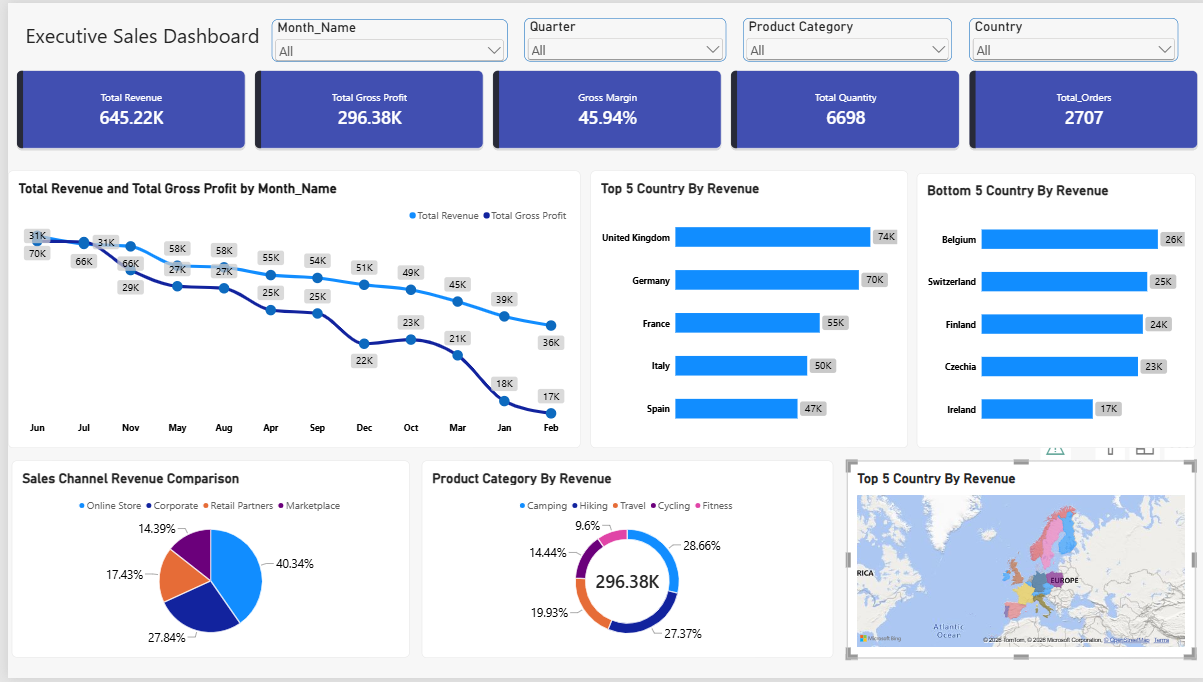

The dashboard page shown, as its layout file describes it:
{"tool":"powerbi","page":{"name":"Page 1","canvas":[1920,1080],"ordinal":0},"visuals":[{"type":"slicer","fields":{"Values":["Date_Table.Month_Name"]},"box":[421.7,26.1,377.3,67.9],"z":0,"group":"g1"},{"type":"cardVisual","fields":{"Data":["All_Measures.Total_Revenue","All_Measures.Total Gross Profit","All_Measures.Gross Margin","All_Measures.Total Quantity","All_Measures.Total_Orders"]},"box":[0,94,1920,152],"z":0},{"type":"lineChart","fields":{"Category":["Date_Table.Month_Name"],"Y":["All_Measures.Total_Revenue"],"Y2":["All_Measures.Total Gross Profit"]},"box":[0,268,916,444],"z":0,"group":"g3"},{"type":"slicer","fields":{"Values":["Date_Table.Quarter"]},"box":[825.8,23.5,323.2,69.7],"z":1000,"group":"g1"},{"type":"textbox","box":[27.1,30.8,499.5,77.8],"z":1000},{"type":"clusteredBarChart","title":"Top 5 Country By Revenue ","fields":{"Category":["Sales_Data.Country"],"Y":["All_Measures.Total Revenue"]},"box":[932,268,508,444],"z":1000,"group":"g3"},{"type":"group","id":"g1","title":"Group 2","box":[421.7,23.5,1449.5,70.6],"z":1007,"group":"g2"},{"type":"group","id":"g2","title":"Group 1","box":[421.7,23.5,1449.5,70.6],"z":2000},{"type":"slicer","fields":{"Values":["Sales_Data.Product Category"]},"box":[1175.7,23.5,334.4,69.7],"z":2000,"group":"g1"},{"type":"clusteredBarChart","title":"Bottom 5 Country By Revenue ","fields":{"Category":["Sales_Data.Country"],"Y":["All_Measures.Total Revenue"]},"box":[1454,272,446,440],"z":2000,"group":"g3"},{"type":"slicer","fields":{"Values":["Sales_Data.Country"]},"box":[1536.9,23.5,334.4,69.7],"z":3000,"group":"g1"},{"type":"pieChart","title":"Sales Channel Revenue Comparison","fields":{"Category":["Sales_Data.Sales Channel"],"Y":["All_Measures.Total Revenue"]},"box":[6.3,732.9,637,314.9],"z":3000},{"type":"donutChart","title":"Product Category By Revenue ","fields":{"Category":["Sales_Data.Product Category"],"Y":["All_Measures.Total Gross Profit"]},"box":[662,732,658,316],"z":4000},{"type":"filledMap","title":"Top 5 Country By Revenue ","fields":{"Category":["Sales_Data.Country"]},"box":[1342,732,558,316],"z":5000},{"type":"group","id":"g3","title":"Group 3","box":[0,268,1900,444],"z":6000}]}

Visuals, with their boxes in screenshot pixels (x1, y1, x2, y2), scaled from the page's 1920x1080 canvas onto the 1203x682 screenshot:
slicer - Date_Table.Month_Name: {"left": 264, "top": 16, "right": 501, "bottom": 59}
cardVisual - All_Measures.Total_Revenue x All_Measures.Total Gross Profit: {"left": 0, "top": 59, "right": 1202, "bottom": 155}
lineChart - Date_Table.Month_Name x All_Measures.Total_Revenue: {"left": 0, "top": 169, "right": 574, "bottom": 450}
slicer - Date_Table.Quarter: {"left": 517, "top": 15, "right": 720, "bottom": 59}
textbox: {"left": 17, "top": 19, "right": 330, "bottom": 69}
"Top 5 Country By Revenue " clusteredBarChart: {"left": 584, "top": 169, "right": 902, "bottom": 450}
"Group 2" group: {"left": 264, "top": 15, "right": 1172, "bottom": 59}
"Group 1" group: {"left": 264, "top": 15, "right": 1172, "bottom": 59}
slicer - Sales_Data.Product Category: {"left": 737, "top": 15, "right": 946, "bottom": 59}
"Bottom 5 Country By Revenue " clusteredBarChart: {"left": 911, "top": 172, "right": 1190, "bottom": 450}
slicer - Sales_Data.Country: {"left": 963, "top": 15, "right": 1172, "bottom": 59}
"Sales Channel Revenue Comparison" pieChart: {"left": 4, "top": 463, "right": 403, "bottom": 662}
"Product Category By Revenue " donutChart: {"left": 415, "top": 462, "right": 827, "bottom": 662}
"Top 5 Country By Revenue " filledMap: {"left": 841, "top": 462, "right": 1190, "bottom": 662}
"Group 3" group: {"left": 0, "top": 169, "right": 1190, "bottom": 450}
